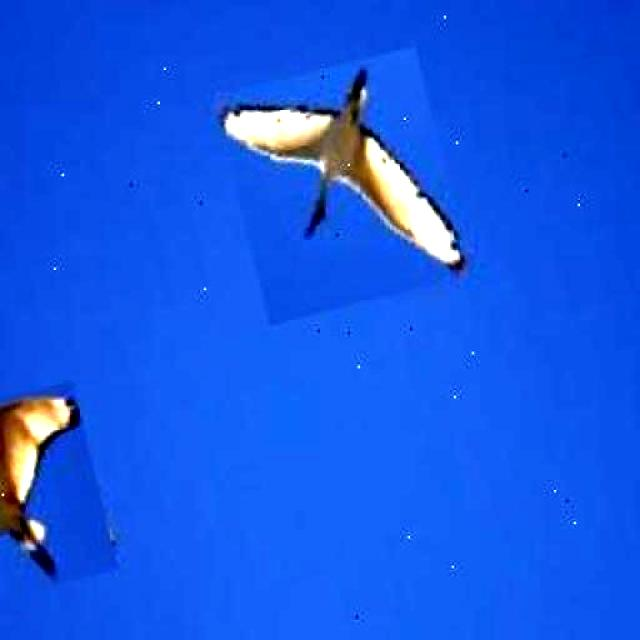airplane: (212, 45, 472, 325), (0, 380, 118, 614)
